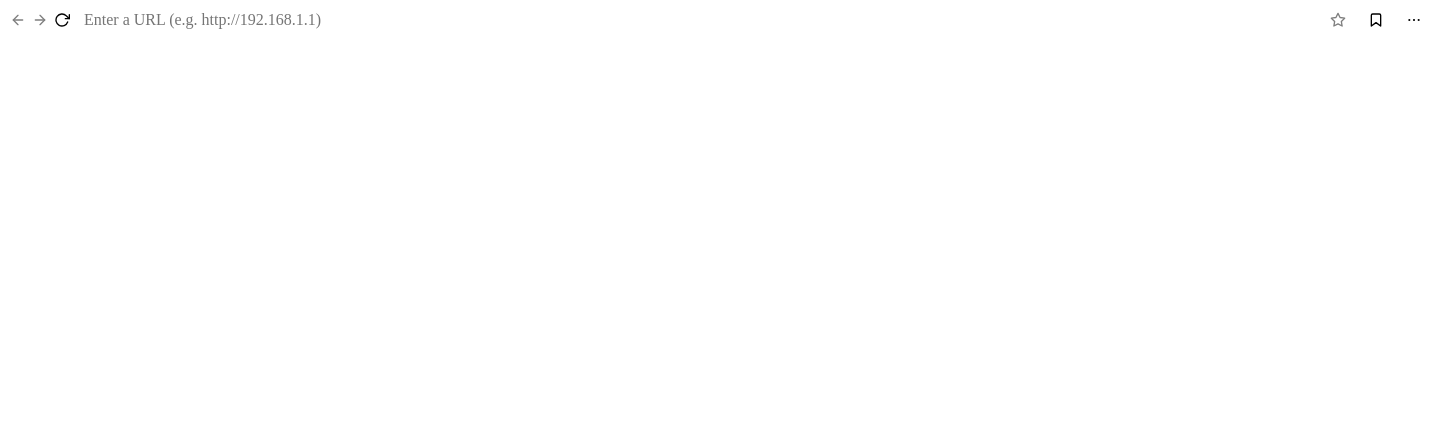
Scenario: WebBrowserPane › ⋯ docks the More panel beside the page without hiding the webview
Click the button named "More": click(1414, 20) [1398, 6, 1430, 34]
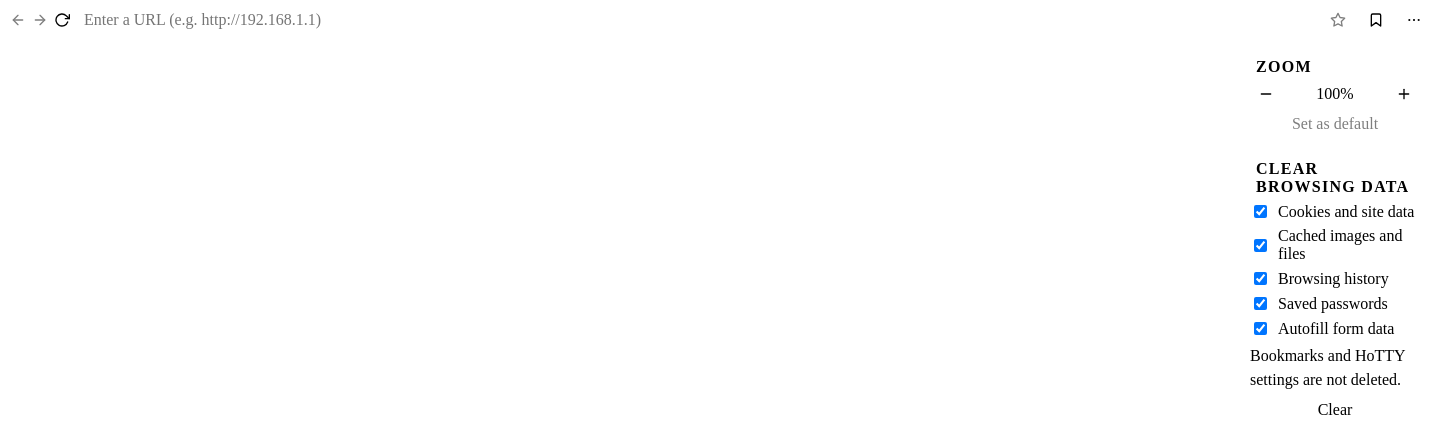
Result: the text "Zoom" is shown at [1256, 58, 1312, 75]
